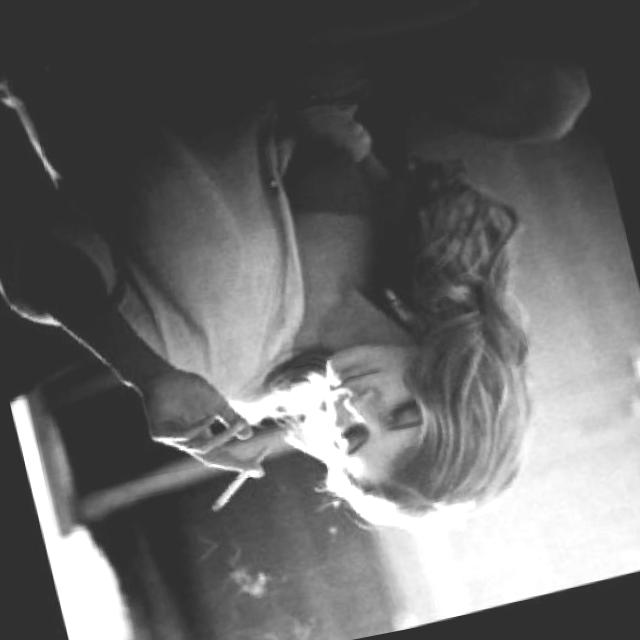cigarette: (196, 438, 289, 514)
